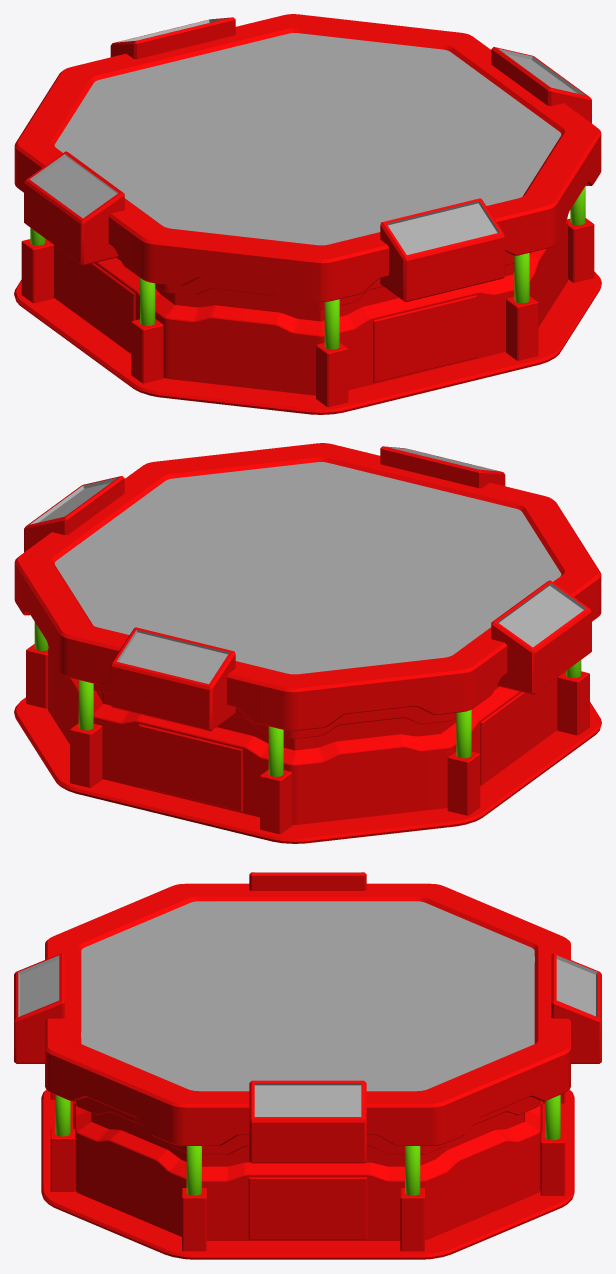
Rendered from HOLOGRAM STAND.fbx.
3 renders of one model, top to bottom at view 1: azimuth 30°, elevation 25°; view 2: azimuth 150°, elevation 25°; view 3: azimuth 270°, elevation 25°, orthographic.
Parts seen in each view (by area): view 1: polySurface7; view 2: polySurface7; view 3: polySurface7.
Boxes of the visible parts, box(x1,y1,x2,y2) form: polySurface7: box(14, 14, 601, 414); polySurface7: box(14, 443, 601, 843); polySurface7: box(14, 872, 601, 1259).
Bounding box in the file's own units: 4.54 × 1.45 × 4.54.
